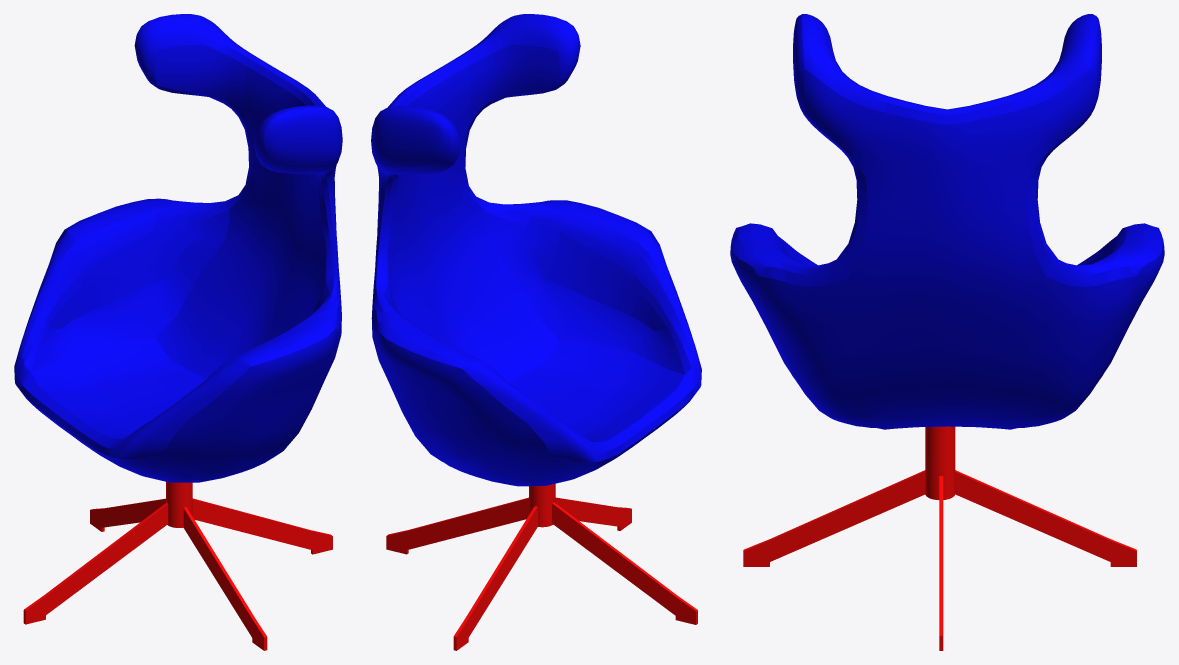
File: Softchair.fbx
3 views of the same model, side by side, from view 1: azimuth 30°, elevation 25°; view 2: azimuth 150°, elevation 25°; view 3: azimuth 270°, elevation 25° (orthographic). The views are drawn at different scales.
Visible parts, largest first — view 1: Cube, Cube.001; view 2: Cube, Cube.001; view 3: Cube, Cube.001.
Part boxes in pixels (box(x1,y1,x2,y2)): Cube: box(14, 14, 342, 482); Cube.001: box(23, 482, 332, 650); Cube: box(371, 14, 701, 486); Cube.001: box(386, 483, 697, 650); Cube: box(730, 14, 1164, 429); Cube.001: box(743, 426, 1136, 650).
Bounding box in the file's own units: 92.47 × 85.43 × 135.
